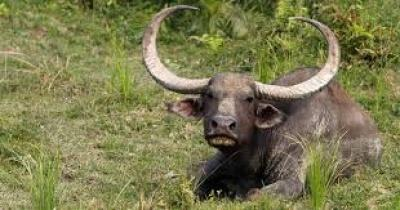buffalo: (143, 7, 380, 197)
